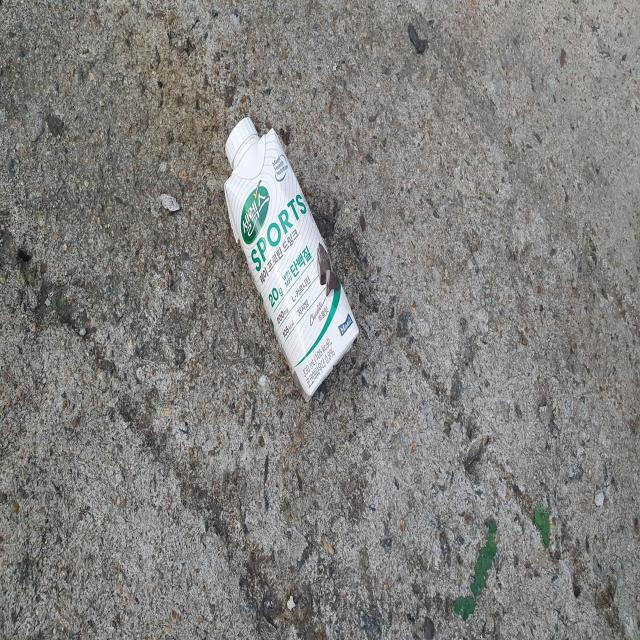paperpack: (224, 117, 358, 400)
